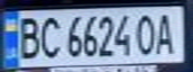2: (97, 11, 118, 58)
4: (112, 11, 136, 57)
6: (63, 12, 84, 59), (81, 11, 100, 58)
A: (151, 9, 181, 56)
B: (12, 12, 42, 60)
C: (36, 13, 63, 60)
O: (133, 10, 160, 56)
